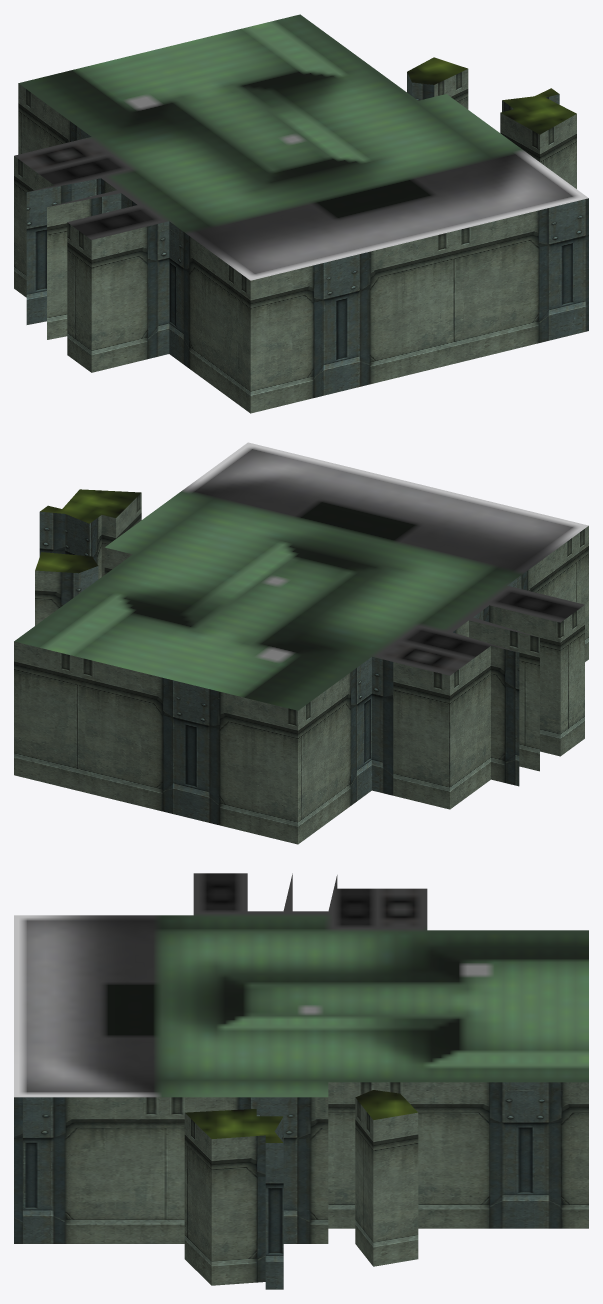
Rendered from BuildingSystem-03-Advance-03-Heavy-3-49-02.glb.
The picture shows the model from 3 angles, top to bottom: view 1: azimuth 30°, elevation 25°; view 2: azimuth 150°, elevation 25°; view 3: azimuth 270°, elevation 25°; orthographic projection. The views are drawn at different scales.
Parts seen in each view (by area): view 1: buildings/saxarba/SMV_Buildings/BuildingSystem-03-Advance-03; view 2: buildings/saxarba/SMV_Buildings/BuildingSystem-03-Advance-03; view 3: buildings/saxarba/SMV_Buildings/BuildingSystem-03-Advance-03.
Boxes of the visible parts, x1,y1,x2,y2 form: buildings/saxarba/SMV_Buildings/BuildingSystem-03-Advance-03: (14, 14, 588, 413); buildings/saxarba/SMV_Buildings/BuildingSystem-03-Advance-03: (14, 442, 588, 844); buildings/saxarba/SMV_Buildings/BuildingSystem-03-Advance-03: (14, 873, 588, 1289).
Bounding box in the file's own units: 71 × 18 × 64.
